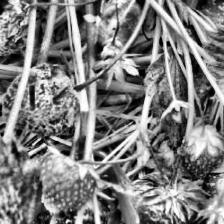Gray Mold: (0, 63, 84, 137), (119, 171, 209, 224), (0, 0, 37, 56)
